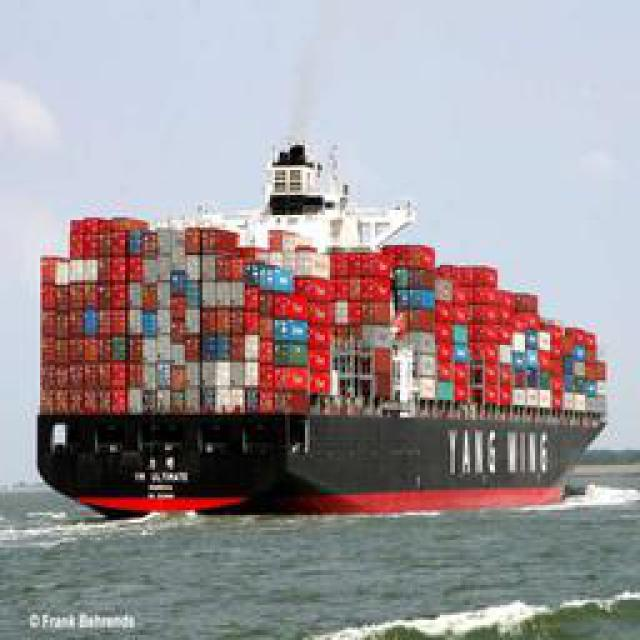Ship: (34, 129, 619, 529)
